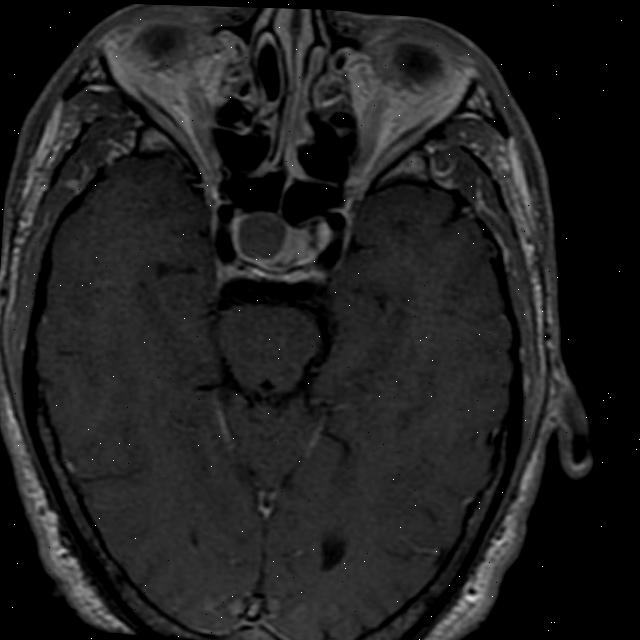Pituitary: (226, 207, 333, 277)
